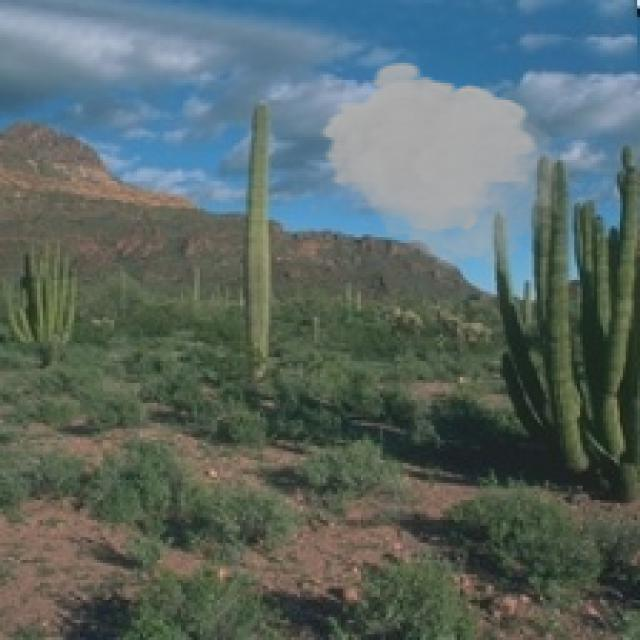smoke: (317, 60, 557, 277)
